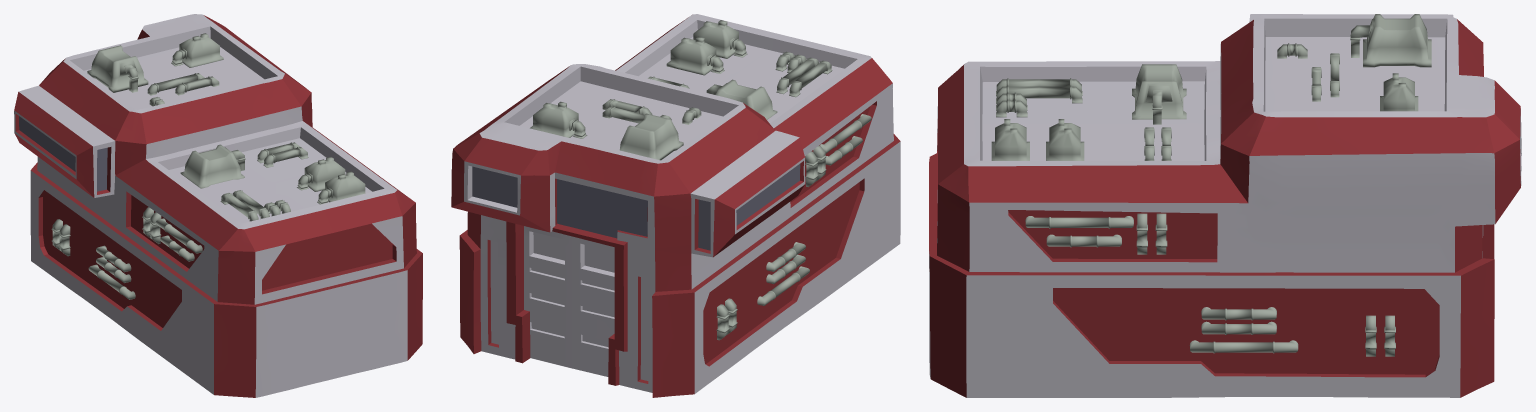
The model's file is Base Garage 2.fbx.
3 renders of one model, left to right at view 1: azimuth 30°, elevation 25°; view 2: azimuth 150°, elevation 25°; view 3: azimuth 270°, elevation 25°, orthographic. The views are drawn at different scales.
Visible parts, largest first — view 1: main_module_low, top details_low, side details_low, Windows_low; view 2: main_module_low, Dorrs_low, top details_low, Windows_low, side details_low; view 3: main_module_low, top details_low, side details_low.
Boxes of the visible parts, x1,y1,x2,y2 form: main_module_low: (14, 14, 422, 397); top details_low: (87, 33, 365, 221); side details_low: (51, 207, 202, 299); Windows_low: (19, 116, 107, 191); main_module_low: (451, 14, 900, 397); Dorrs_low: (524, 226, 614, 376); top details_low: (530, 20, 832, 160); Windows_low: (472, 164, 800, 250); side details_low: (716, 114, 871, 340); main_module_low: (929, 14, 1521, 397); top details_low: (991, 14, 1431, 160); side details_low: (1025, 213, 1395, 356).
Bounding box in the file's own units: 1449 × 1213 × 2316.
